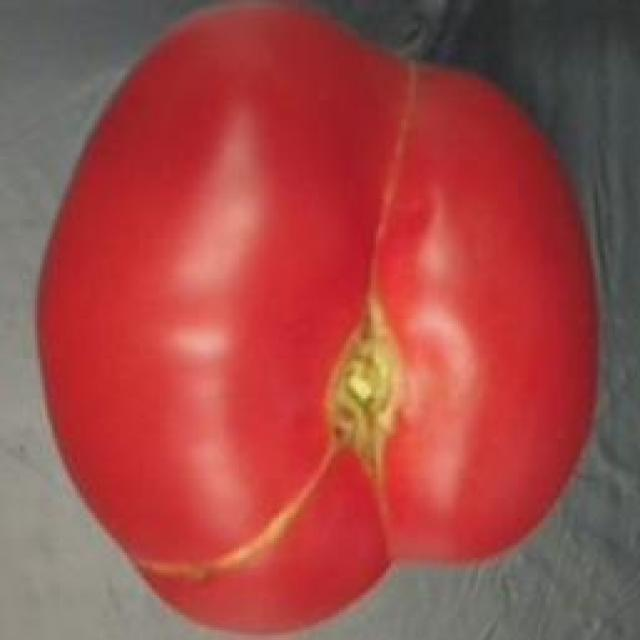overripe tomato: (28, 0, 610, 640)
